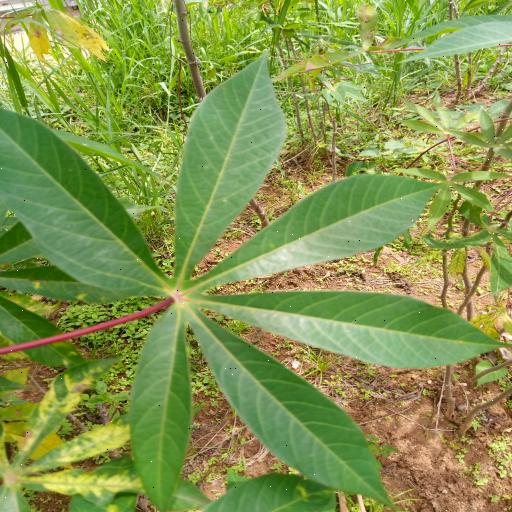Cassava_Healthy: (0, 46, 512, 512)
Cassava_Mosaic: (0, 350, 159, 512)
